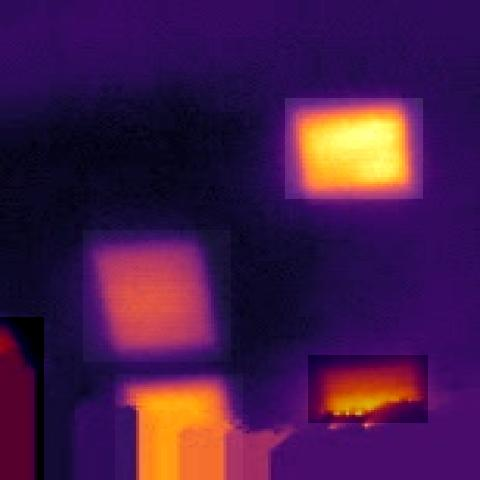fault: (84, 230, 232, 362), (285, 98, 423, 199), (116, 374, 244, 480), (308, 355, 428, 423), (0, 317, 44, 480)
